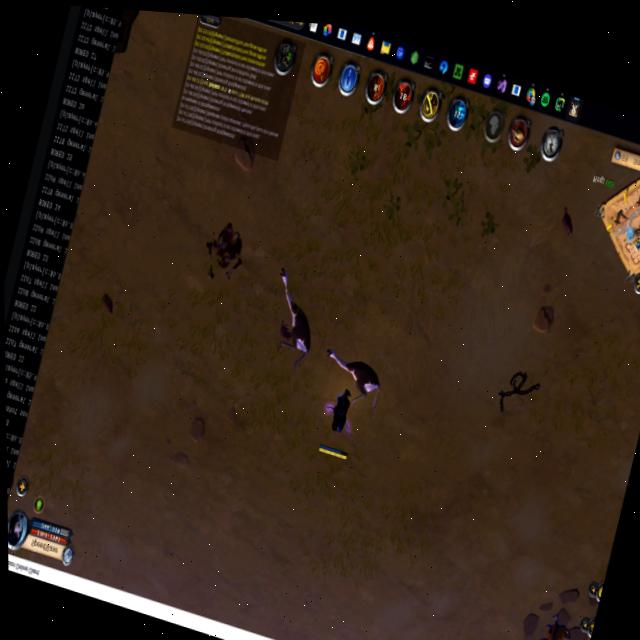mob: (255, 263, 329, 370), (311, 343, 391, 421)
red: (310, 379, 367, 468)
